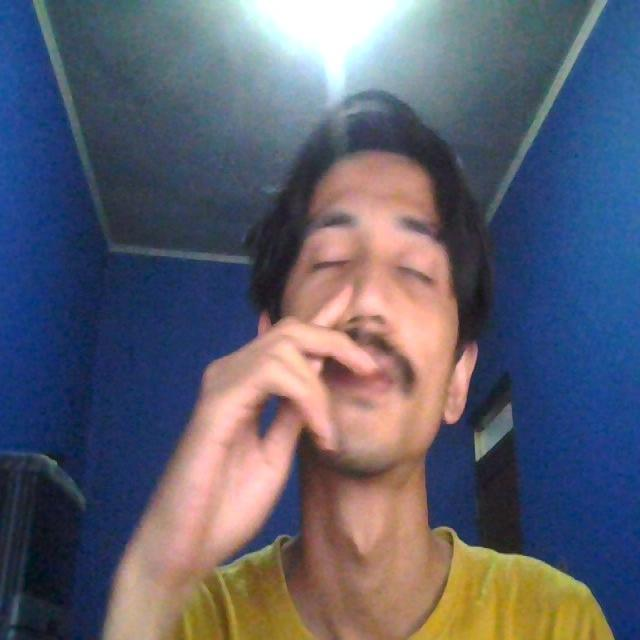movement: (190, 97, 498, 575)
